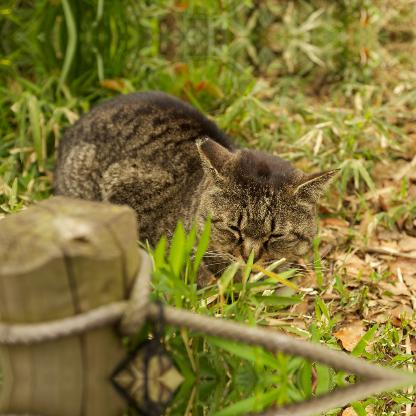Cat: (45, 86, 333, 296)
